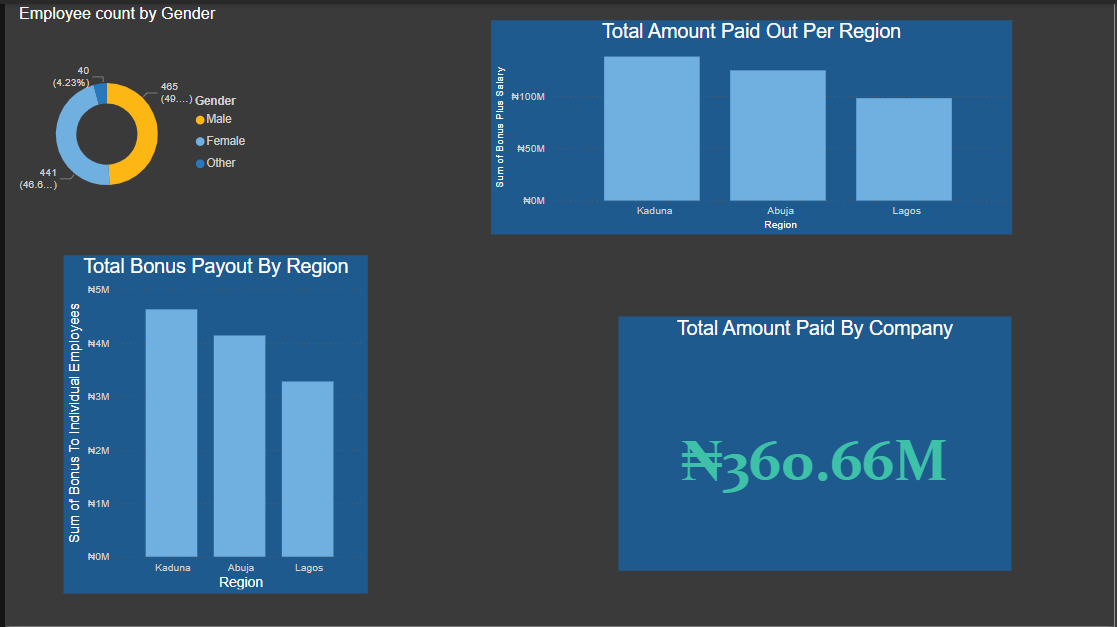

This screenshot's page, from the dashboard's own definition file:
{"tool":"powerbi","page":{"name":"Page 2","canvas":[1280,720],"ordinal":1},"visuals":[{"type":"clusteredBarChart","title":"Salary Grouped By A Band Of $10,000","fields":{"Y":["Palmoria Group emp-data.Employee count"],"Category":["Palmoria Group emp-data.Salary Band 2"]},"box":[27.4,0,318.9,298.7],"z":0},{"type":"pieChart","title":"Employees Earning Below $90,000 Per Region","fields":{"Y":["Palmoria Group emp-data.Low salary count"],"Category":["Palmoria Group emp-data.Location"]},"box":[27.4,298.7,369.3,206.3],"z":1000},{"type":"donutChart","fields":{"Y":["Palmoria Group emp-data.Employee count"],"Category":["Palmoria Group emp-data.Gender"]},"box":[346.3,0,279.9,216.4],"z":2000},{"type":"columnChart","title":"Total Amount Paid Out Per Region","fields":{"Y":["Sum(Merge Data.Bonus Plus Salary)"],"Category":["Merge Data.Location"]},"box":[626.2,0,284.2,284.2],"z":3000},{"type":"clusteredColumnChart","title":"Total Bonus Payout By Region","fields":{"Category":["Merge Data.Location"],"Y":["Sum(Merge Data.Bonus To Individual Employees)"]},"box":[396.8,298.7,219.3,282.8],"z":4000},{"type":"card","title":"Total Amount Paid By Company","fields":{"Values":["Sum(Merge Data.Bonus Plus Salary)"]},"box":[910.4,0,324.6,184.7],"z":5000}]}

Visuals, with their boxes in screenshot pixels (x1, y1, x2, y2), scaled from the page's 1280x720 canvas onto the 1117x627 screenshot:
"Salary Grouped By A Band Of $10,000" clusteredBarChart: bbox(24, 0, 302, 260)
"Employees Earning Below $90,000 Per Region" pieChart: bbox(24, 260, 346, 440)
donutChart - Palmoria Group emp-data.Employee count x Palmoria Group emp-data.Gender: bbox(302, 0, 546, 188)
"Total Amount Paid Out Per Region" columnChart: bbox(546, 0, 794, 247)
"Total Bonus Payout By Region" clusteredColumnChart: bbox(346, 260, 538, 506)
"Total Amount Paid By Company" card: bbox(794, 0, 1078, 161)
